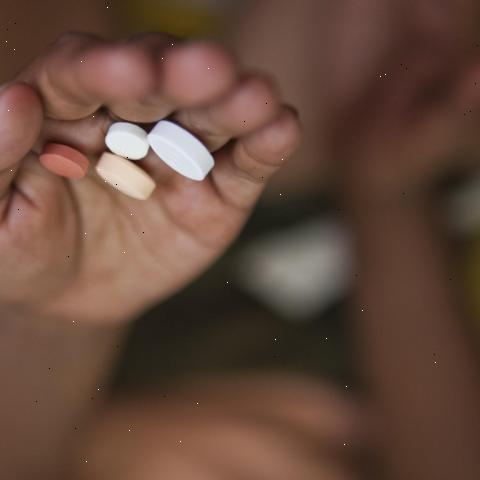Pill: (149, 114, 222, 190), (90, 152, 159, 216), (104, 110, 151, 167)
